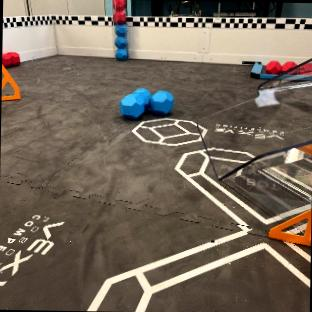V5_BLUE: (119, 88, 173, 118), (115, 23, 127, 58)
V5_RED: (113, 0, 125, 22), (2, 52, 19, 66), (297, 63, 312, 71)
